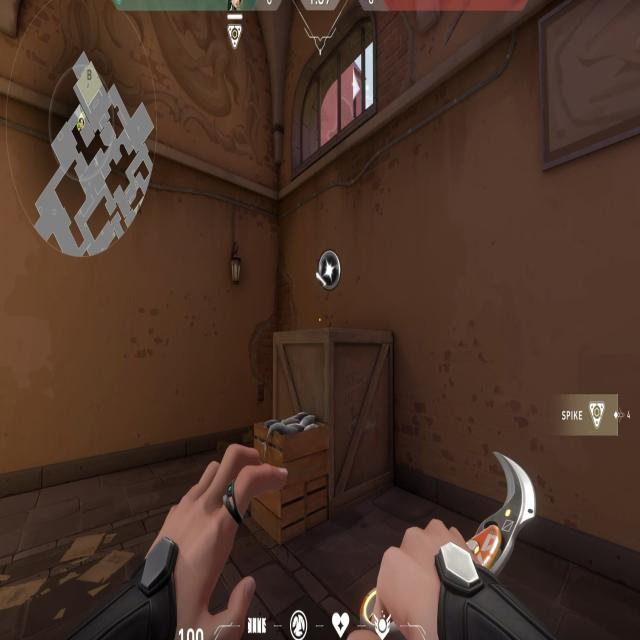B_Main_Wallbang: (249, 250, 423, 544)
Throwables: (282, 7, 386, 202)
